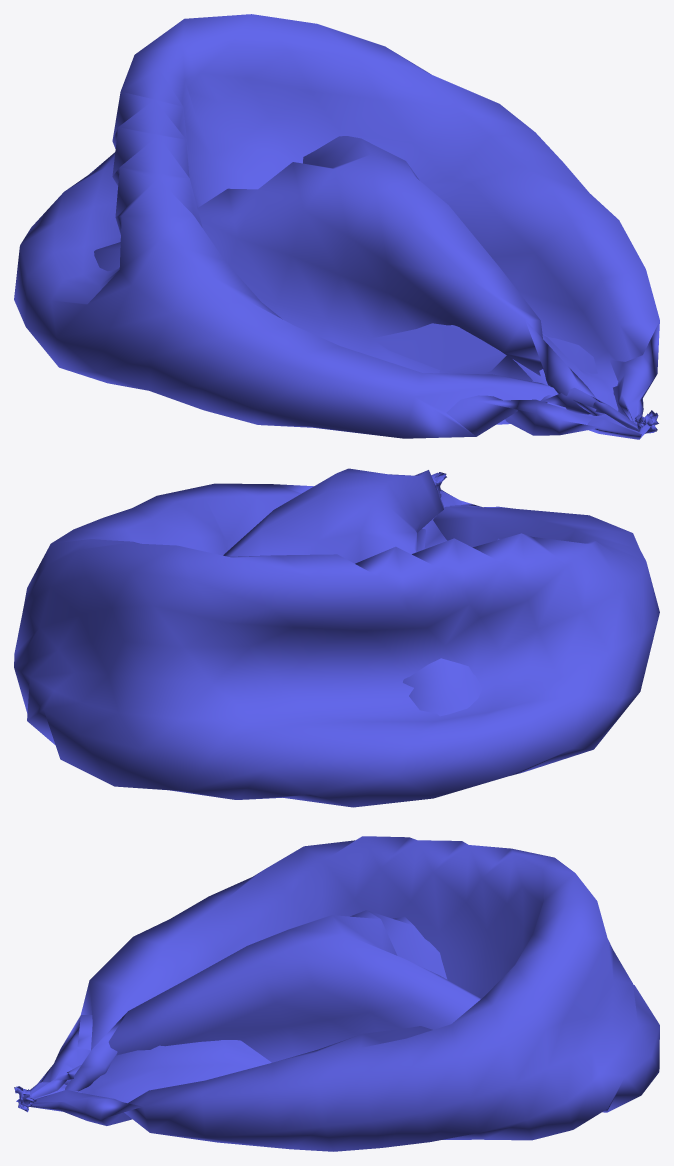
Rendered from DeflatedBalloon.fbx.
3 renders of one model, top to bottom at view 1: azimuth 30°, elevation 25°; view 2: azimuth 150°, elevation 25°; view 3: azimuth 270°, elevation 25°, orthographic. The views are drawn at different scales.
Parts seen in each view (by area): view 1: Cube; view 2: Cube; view 3: Cube.
Part boxes in pixels (x1,y1,x2,y2): Cube: [14, 14, 659, 439]; Cube: [14, 468, 659, 807]; Cube: [14, 836, 659, 1151].
Bounding box in the file's own units: 206 × 79.09 × 257.
